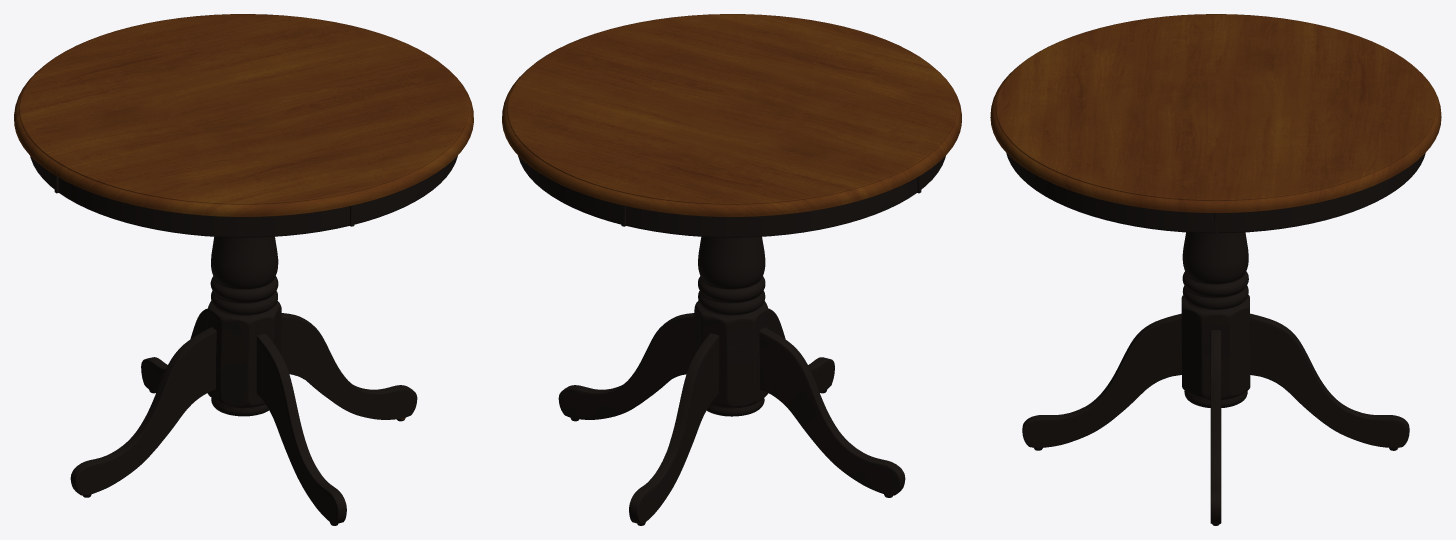
3 views of the same model, side by side, from view 1: azimuth 30°, elevation 25°; view 2: azimuth 150°, elevation 25°; view 3: azimuth 270°, elevation 25° (orthographic). The views are drawn at different scales.
Visible parts, largest first — view 1: not_clear_obj_1_v6, not_clear_obj_0_v6; view 2: not_clear_obj_1_v6, not_clear_obj_0_v6; view 3: not_clear_obj_1_v6, not_clear_obj_0_v6.
Part boxes in pixels (box(x1,y1,x2,y2)): not_clear_obj_1_v6: box(14, 14, 473, 216); not_clear_obj_0_v6: box(30, 155, 457, 525); not_clear_obj_1_v6: box(502, 14, 961, 216); not_clear_obj_0_v6: box(518, 156, 945, 525); not_clear_obj_1_v6: box(990, 14, 1441, 212); not_clear_obj_0_v6: box(1006, 153, 1425, 525).
Bounding box in the file's own units: 35.78 × 30 × 35.78.
2 materials, 2 textured.
